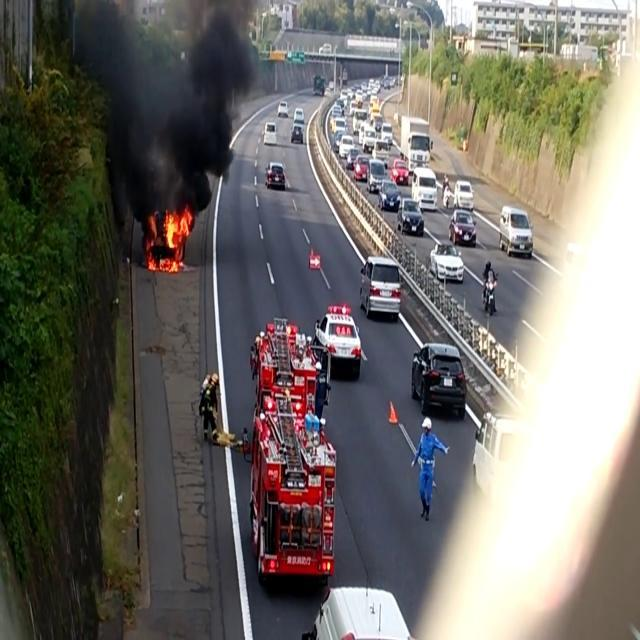Fire: (153, 202, 195, 268)
Smoke: (66, 0, 278, 196)
